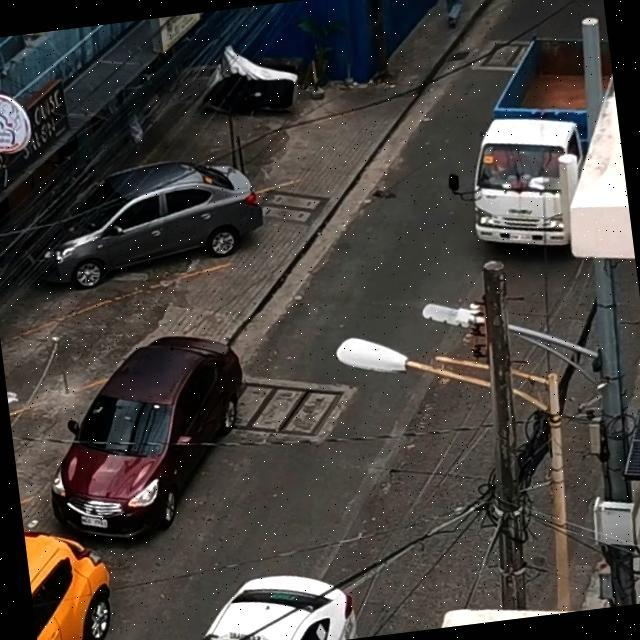Truck: (406, 17, 634, 276)
